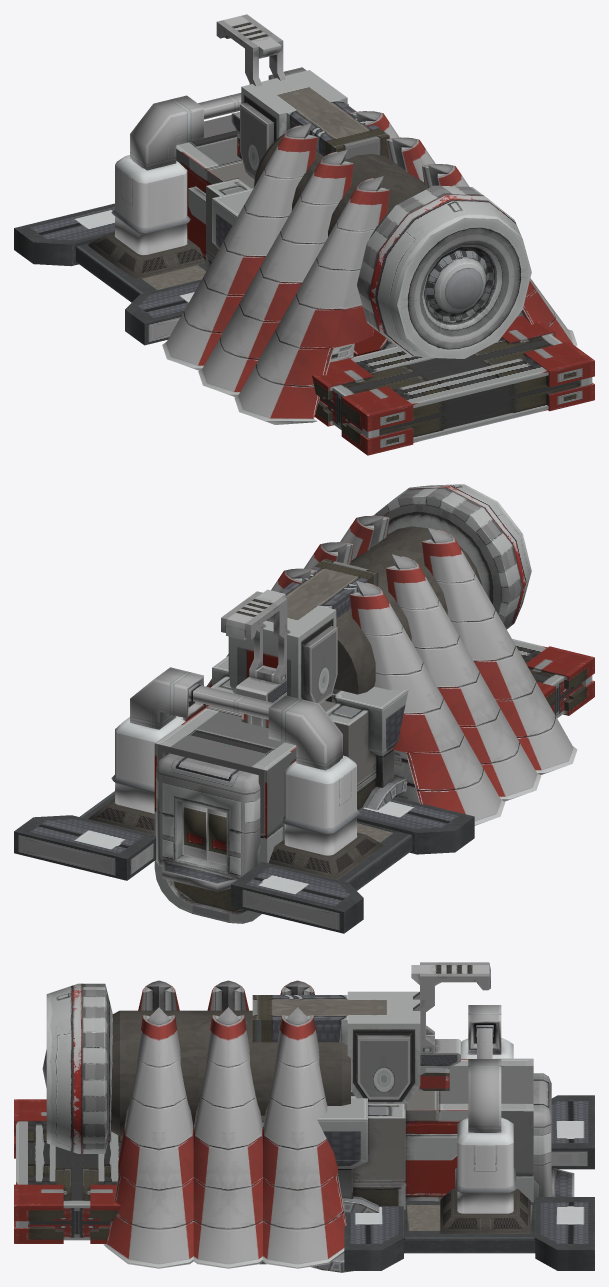
Rendered from Building - 12-CLcTQ72O.glb.
3 views of the same model, one above another, from view 1: azimuth 30°, elevation 25°; view 2: azimuth 150°, elevation 25°; view 3: azimuth 270°, elevation 25° (orthographic). The views are drawn at different scales.
Visible parts, largest first — view 1: Addon_02, block2, Pylon_04 (3), Pylon_04 (1), Pylon_04, Fence_07 (1), Tube_06 (1), Addon_06, Main_form_02, Tube_05_corner (1), Simlpe_form_09, Pylon_05 (+4 smaller); view 2: Main_form_02, Pylon_04, Fence_07 (1), Pylon_04 (3), Pylon_04 (1), Door_01_frame, Addon_06, Addon_02, Tube_06 (1), Fence_07, Simlpe_form_09, Tube_06 (+10 smaller); view 3: Main_form_02, Pylon_04 (4), Pylon_04 (7), Pylon_04 (6), Fence_07, Addon_06, block2, Addon_02, Simlpe_form_09, Tube_06, Pylon_05, Fence_07 (1) (+7 smaller).
Boxes of the visible parts, bbox=[...] form: Addon_02: bbox=[357, 185, 531, 358]; block2: bbox=[312, 315, 594, 455]; Pylon_04 (3): bbox=[234, 176, 389, 424]; Pylon_04 (1): bbox=[198, 149, 353, 396]; Pylon_04: bbox=[162, 123, 317, 370]; Fence_07 (1): bbox=[14, 203, 205, 345]; Tube_06 (1): bbox=[88, 155, 205, 280]; Addon_06: bbox=[240, 70, 389, 179]; Main_form_02: bbox=[176, 115, 396, 356]; Tube_05_corner (1): bbox=[130, 95, 203, 170]; Simlpe_form_09: bbox=[253, 133, 428, 238]; Pylon_05: bbox=[216, 14, 286, 158]; Main_form_02: bbox=[154, 656, 408, 923]; Pylon_04: bbox=[350, 581, 505, 825]; Fence_07 (1): bbox=[231, 797, 474, 933]; Pylon_04 (3): bbox=[422, 528, 577, 775]; Pylon_04 (1): bbox=[386, 554, 541, 801]; Door_01_frame: bbox=[156, 753, 260, 891]; Addon_06: bbox=[228, 559, 378, 704]; Addon_02: bbox=[373, 484, 531, 629]; Tube_06 (1): bbox=[268, 755, 383, 879]; Fence_07: bbox=[14, 791, 156, 880]; Simlpe_form_09: bbox=[334, 526, 481, 694]; Tube_06: bbox=[88, 716, 185, 835]; Main_form_02: bbox=[259, 1058, 533, 1272]; Pylon_04 (4): bbox=[103, 1007, 193, 1268]; Pylon_04 (7): bbox=[263, 1007, 346, 1268]; Pylon_04 (6): bbox=[193, 1007, 262, 1268]; Fence_07: bbox=[344, 1197, 594, 1270]; Addon_06: bbox=[252, 991, 420, 1103]; block2: bbox=[14, 1099, 122, 1243]; Addon_02: bbox=[42, 983, 112, 1153]; Simlpe_form_09: bbox=[111, 1010, 350, 1135]; Tube_06: bbox=[440, 1117, 530, 1233]; Pylon_05: bbox=[411, 962, 490, 1090]; Fence_07 (1): bbox=[551, 1095, 594, 1169].
Size of the model in its own units: 3.82 by 3.21 by 5.99.
Materials: 8 (8 with a texture image).
